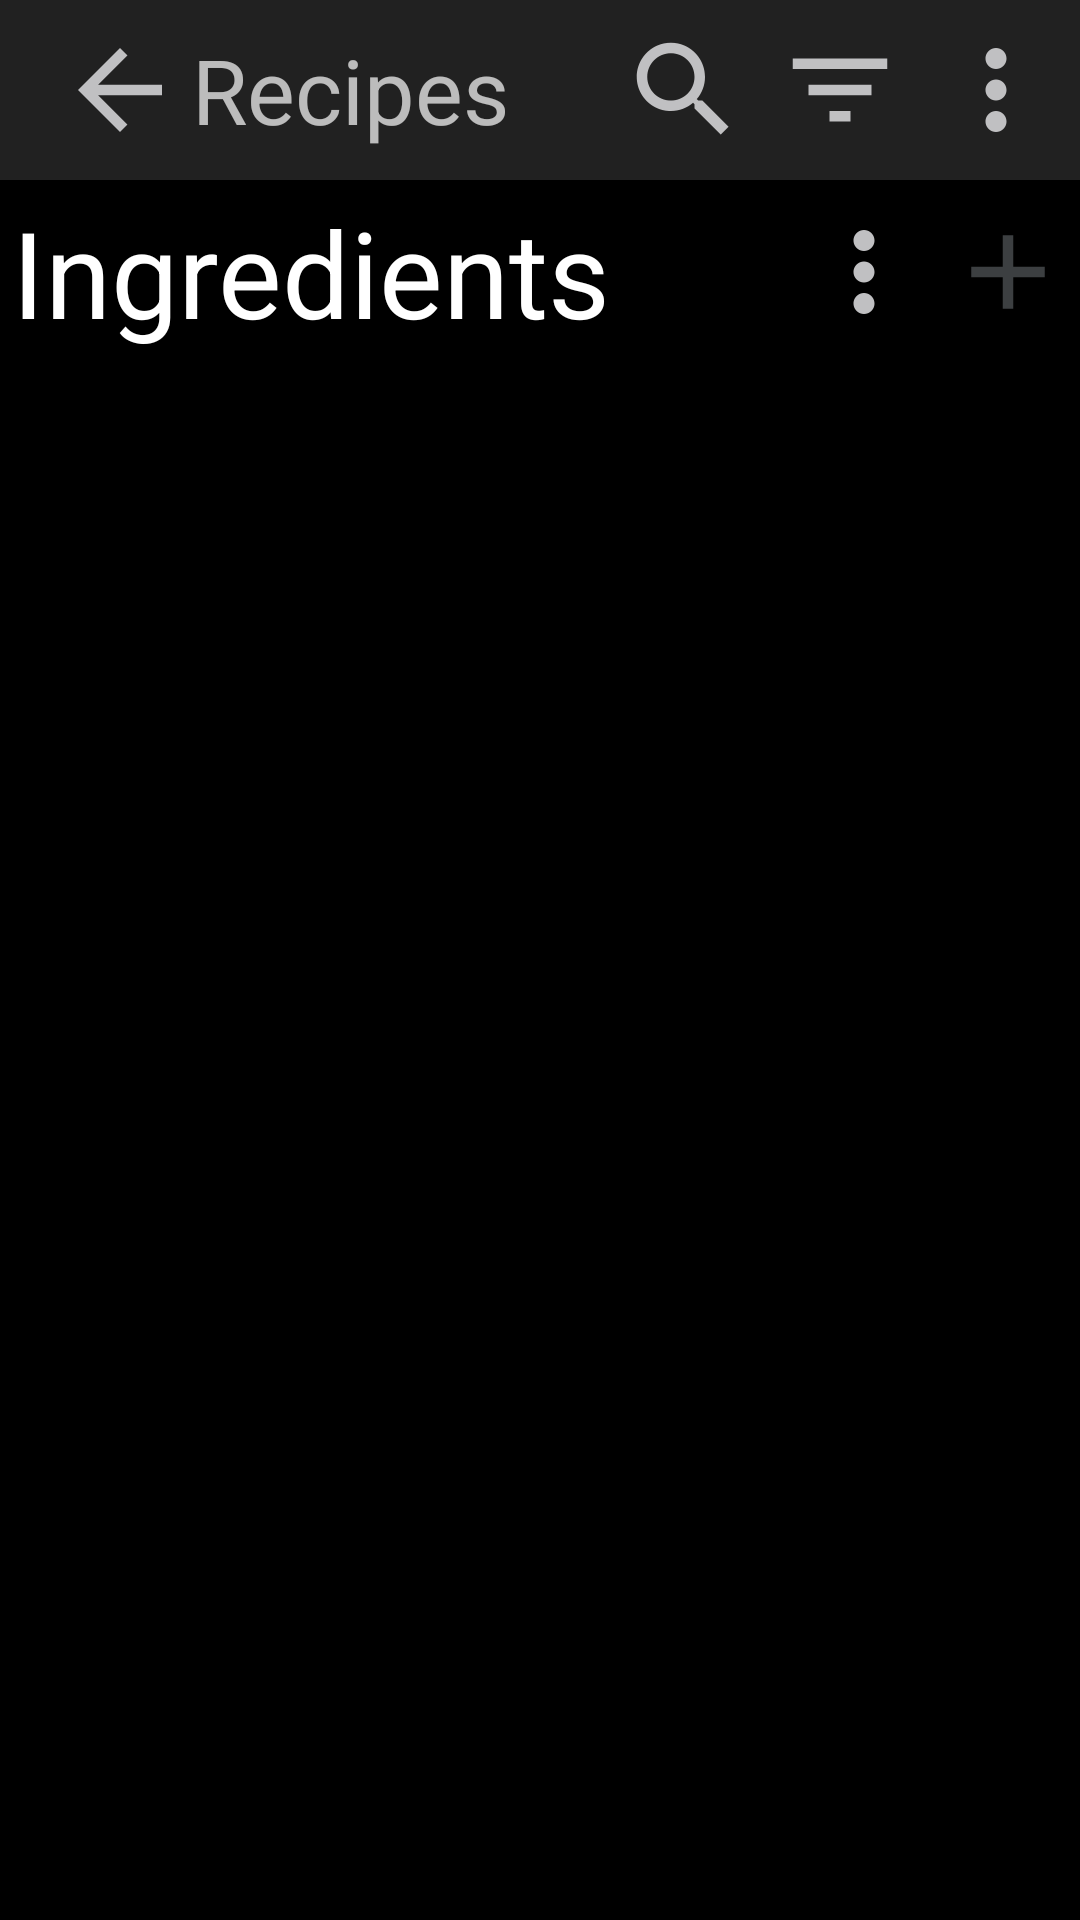

Icons on this 1080 x 1920 Android screen, each with its box as (x1, y1, x2, y2):
add: (971, 235, 1045, 309)
arrow left secondary: (78, 48, 162, 132)
filter secondary: (792, 58, 888, 122)
more secondary: (985, 48, 1007, 132), (853, 230, 875, 314)
search secondary: (636, 42, 729, 135)
